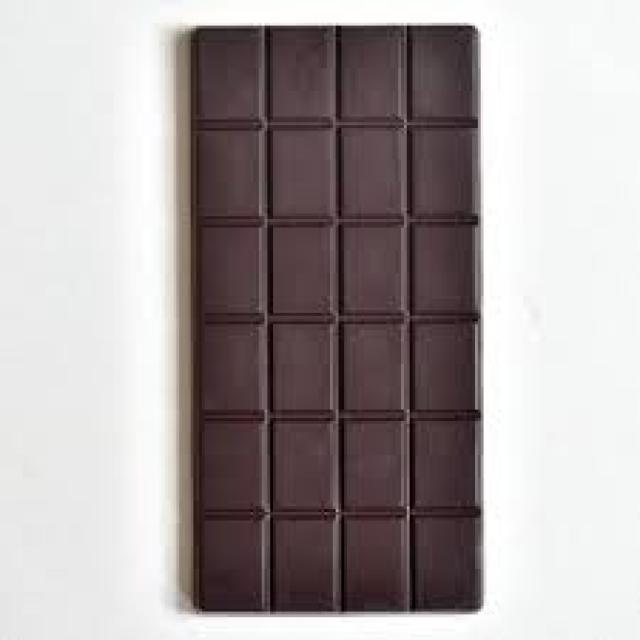Chocolate: (187, 19, 485, 613)
